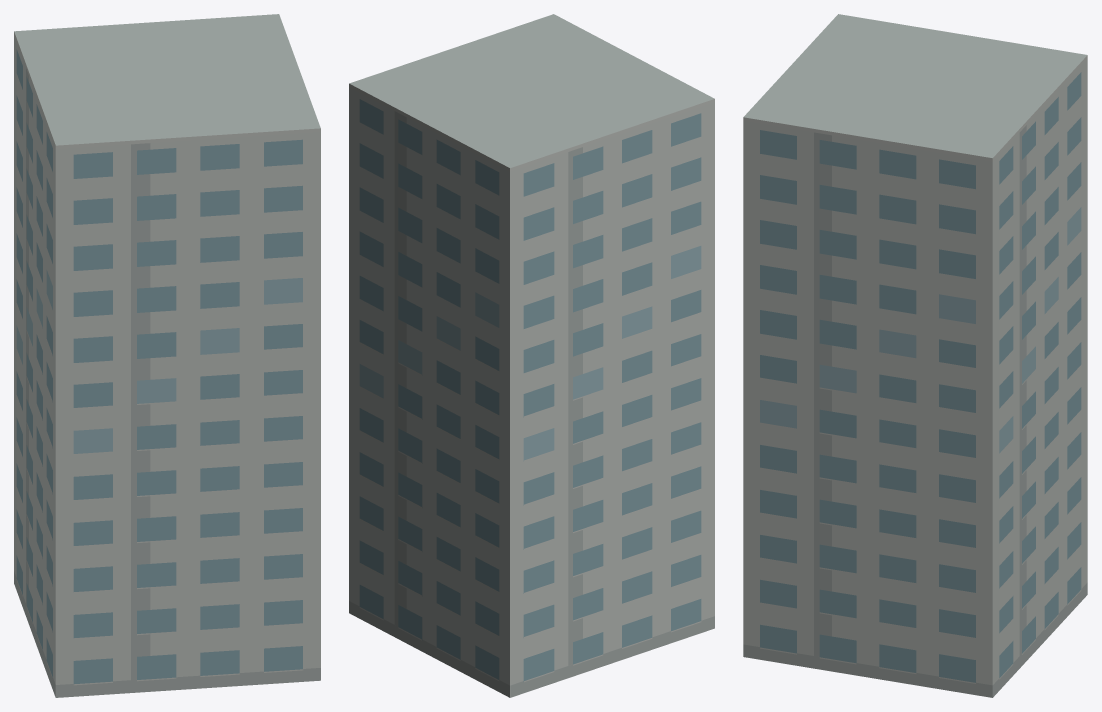
Rendered from residential-9d540fad-468a-486f-97ab-f960a10862d6.glb.
The picture shows the model from 3 angles, left to right: view 1: azimuth 30°, elevation 25°; view 2: azimuth 150°, elevation 25°; view 3: azimuth 270°, elevation 25°; orthographic projection. The views are drawn at different scales.
Parts seen in each view (by area): view 1: residential-9d540fad-468a-486f-97ab-f960a10862d6.tmp; view 2: residential-9d540fad-468a-486f-97ab-f960a10862d6.tmp; view 3: residential-9d540fad-468a-486f-97ab-f960a10862d6.tmp.
Boxes of the visible parts, x1,y1,x2,y2 form: residential-9d540fad-468a-486f-97ab-f960a10862d6.tmp: [14, 14, 320, 697]; residential-9d540fad-468a-486f-97ab-f960a10862d6.tmp: [349, 14, 714, 697]; residential-9d540fad-468a-486f-97ab-f960a10862d6.tmp: [743, 14, 1087, 697].
Size of the model in its own units: 21.21 by 37 by 21.41.
